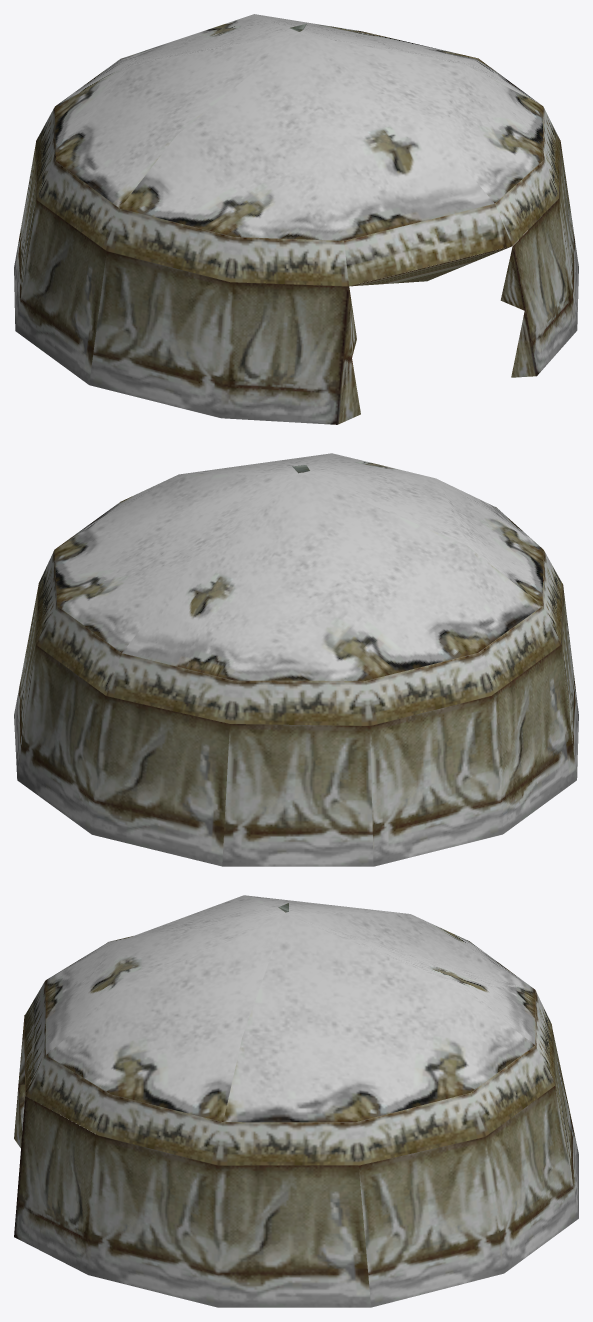
The model's file is general_obj_tent01_lod_01.fbx.
The picture shows the model from 3 angles, top to bottom: view 1: azimuth 30°, elevation 25°; view 2: azimuth 150°, elevation 25°; view 3: azimuth 270°, elevation 25°; orthographic projection.
Visible parts, largest first — view 1: Mesh02; view 2: Mesh02; view 3: Mesh02.
Part boxes in pixels (left/top/right/bottom): Mesh02: left=14, top=14, right=578, bottom=424; Mesh02: left=14, top=453, right=578, bottom=866; Mesh02: left=14, top=895, right=578, bottom=1307.
Bounding box in the file's own units: 11.36 × 6.14 × 11.26.
